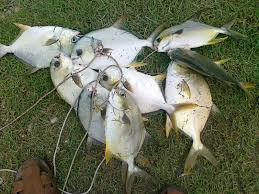Ikan Bawal: (163, 61, 224, 174), (103, 83, 149, 179), (70, 24, 159, 72), (2, 20, 81, 67), (152, 17, 244, 54)
